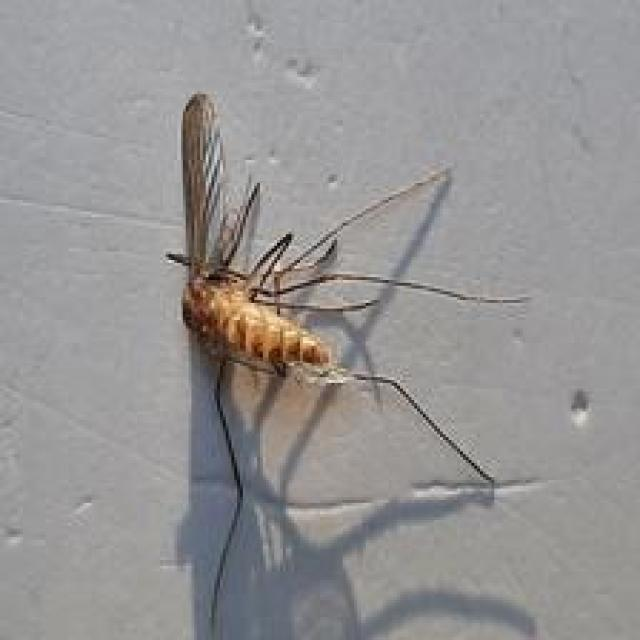Culex: (164, 90, 533, 490)
